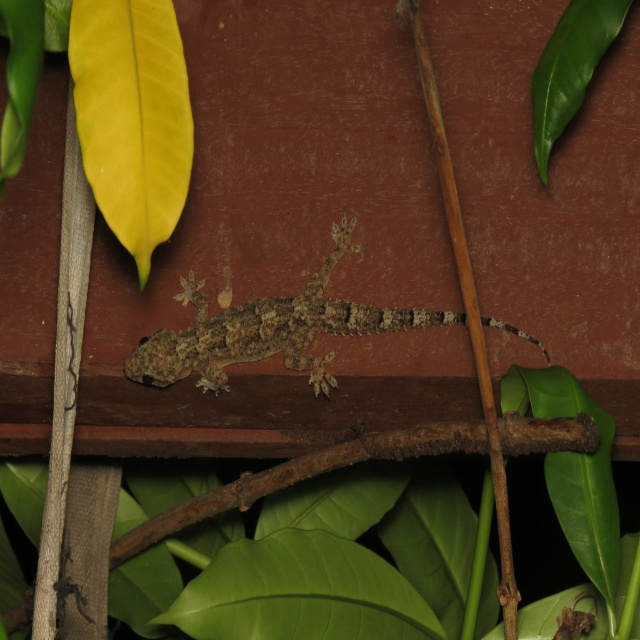Lizard: (89, 156, 574, 526)
